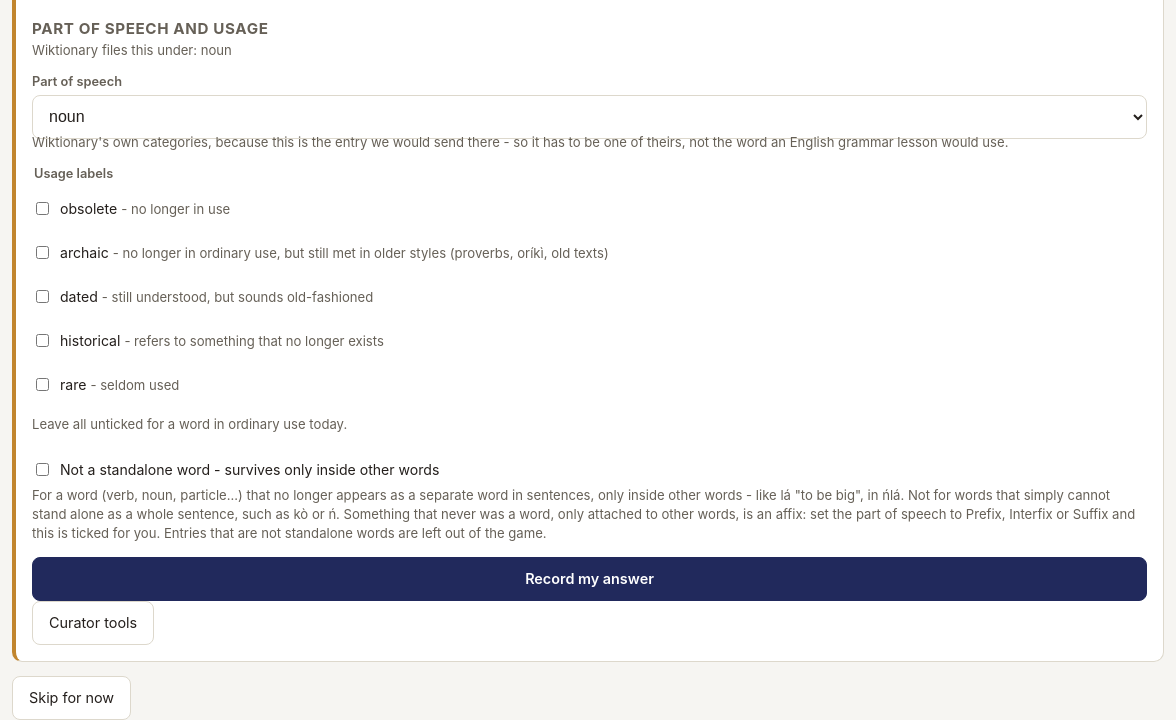
Test: TaskQueue › keeps a task set aside across a later submit
(page scrolled)
Click the button "Skip for now". click: (72, 698)
box: left=12, top=676, right=131, bottom=719
(page scrolled)
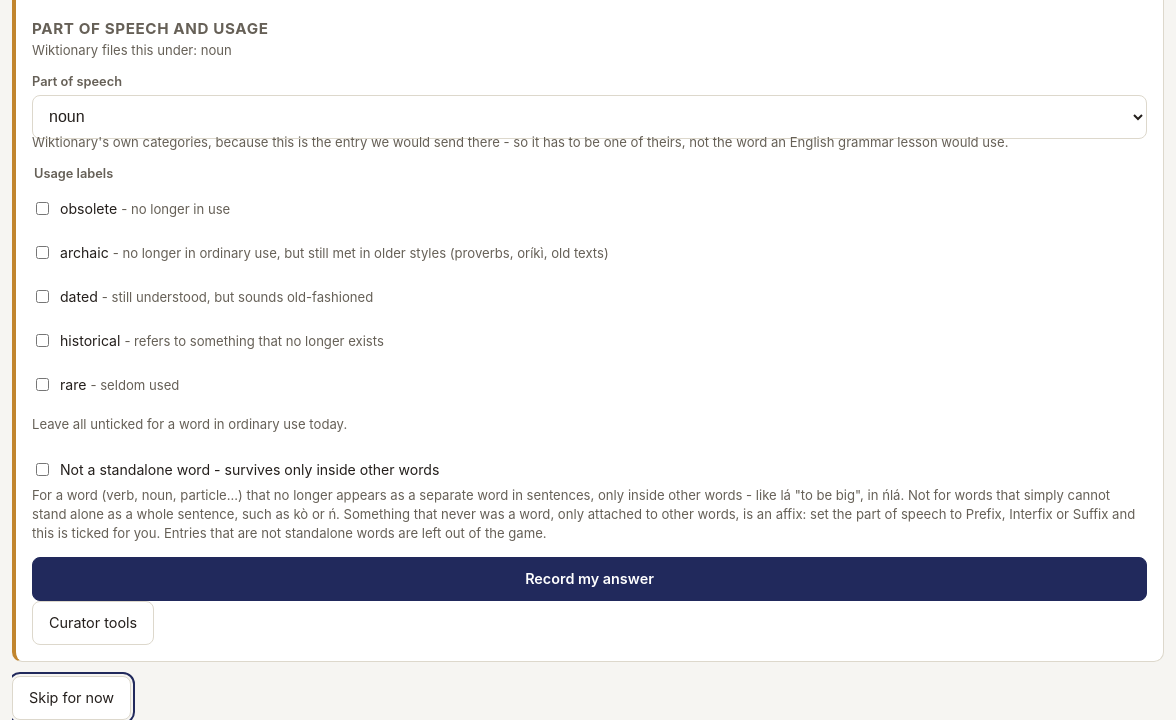
Click the button "Record my answer". click: (590, 579)
box: left=32, top=557, right=1147, bottom=601
(page scrolled)
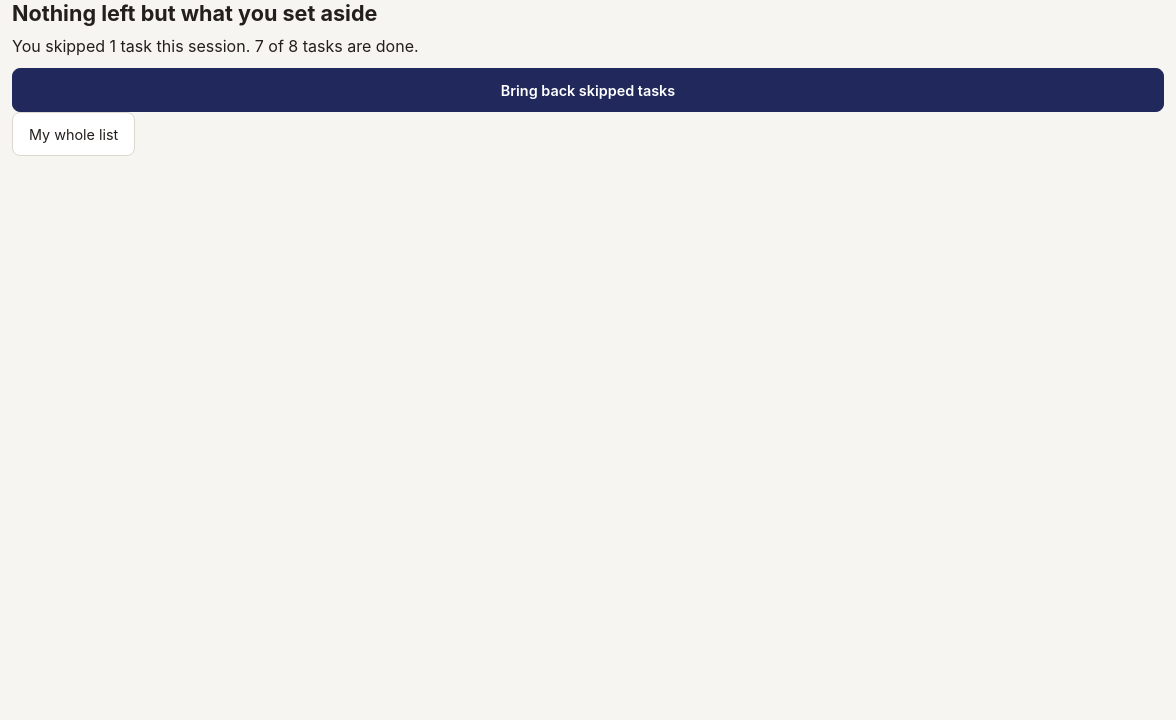
expect the heading "Nothing left but what you set aside" is shown: met, box left=12, top=0, right=377, bottom=26
